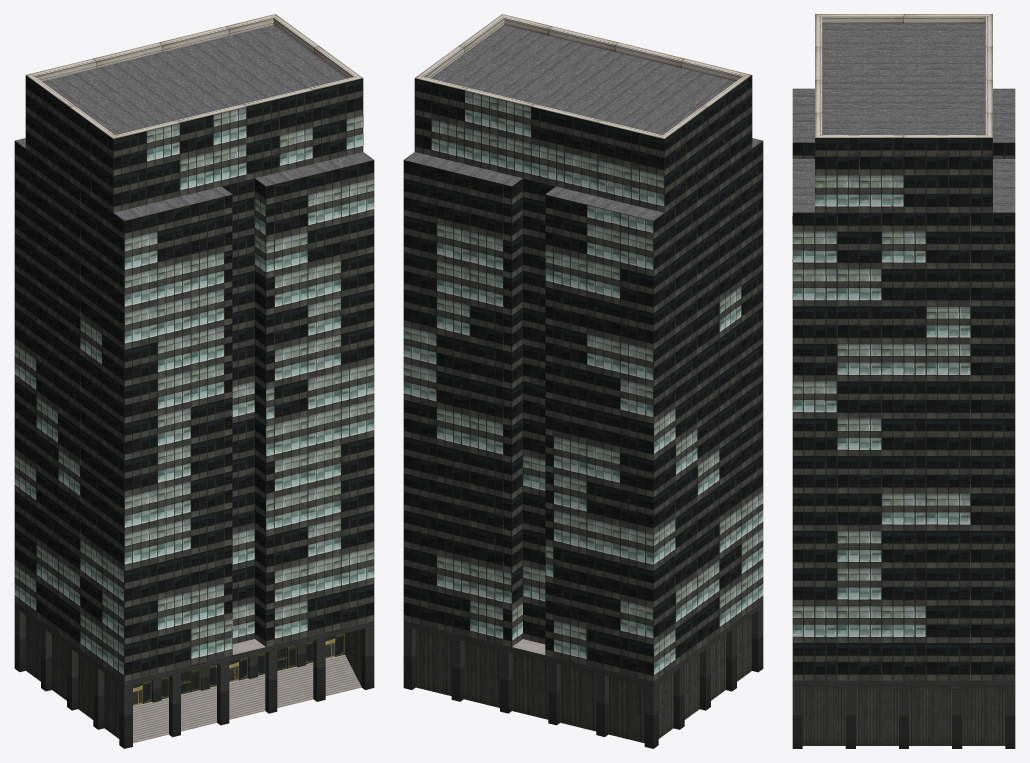
File: downtown_skyscraper_7.FBX
The picture shows the model from 3 angles, left to right: view 1: azimuth 30°, elevation 25°; view 2: azimuth 150°, elevation 25°; view 3: azimuth 270°, elevation 25°; orthographic projection.
Visible parts, largest first — view 1: downtown_skyscraper_7, em_win_dwtn_skyscraper_7; view 2: downtown_skyscraper_7, em_win_dwtn_skyscraper_7; view 3: downtown_skyscraper_7, em_win_dwtn_skyscraper_7.
Part boxes in pixels (x1,y1,x2,y2): downtown_skyscraper_7: (14,14,374,748); em_win_dwtn_skyscraper_7: (14,107,374,674); downtown_skyscraper_7: (403,14,763,748); em_win_dwtn_skyscraper_7: (403,91,763,674); downtown_skyscraper_7: (792,14,1015,748); em_win_dwtn_skyscraper_7: (792,175,970,636).
Bounding box in the file's own units: 224 × 514 × 170.
